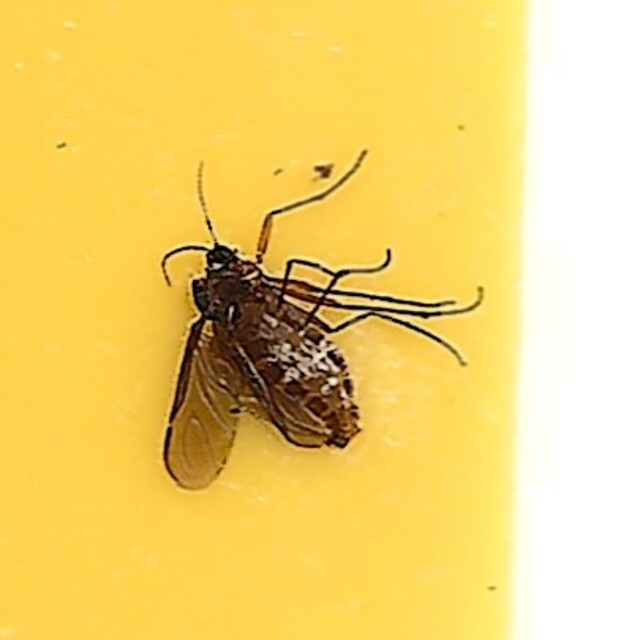Nematocera: (158, 149, 482, 491)
